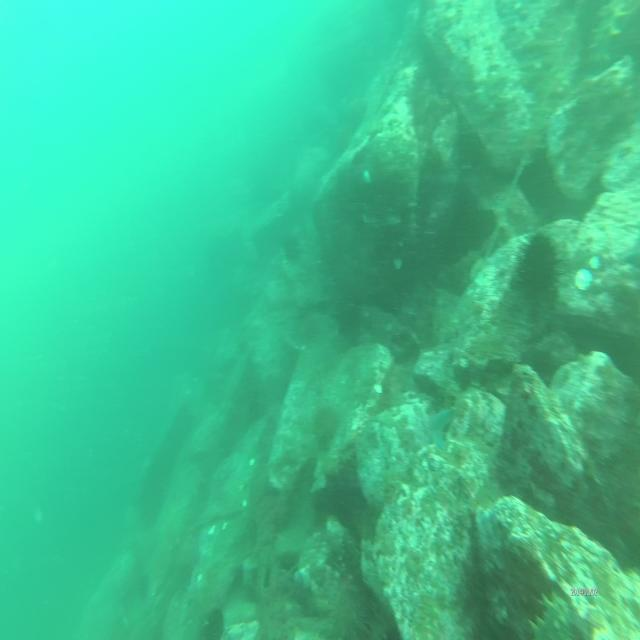echinus: (520, 232, 563, 300), (316, 402, 337, 447), (282, 232, 303, 267), (201, 611, 224, 638)
